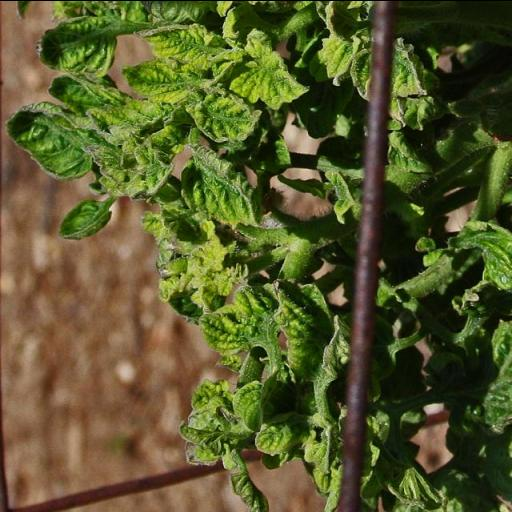disease_tomato: (272, 278, 348, 410), (182, 138, 270, 238), (4, 100, 104, 182), (228, 34, 315, 110), (36, 12, 128, 80), (186, 74, 266, 148), (146, 16, 240, 71), (192, 294, 248, 362), (119, 58, 202, 102), (230, 371, 270, 436)
